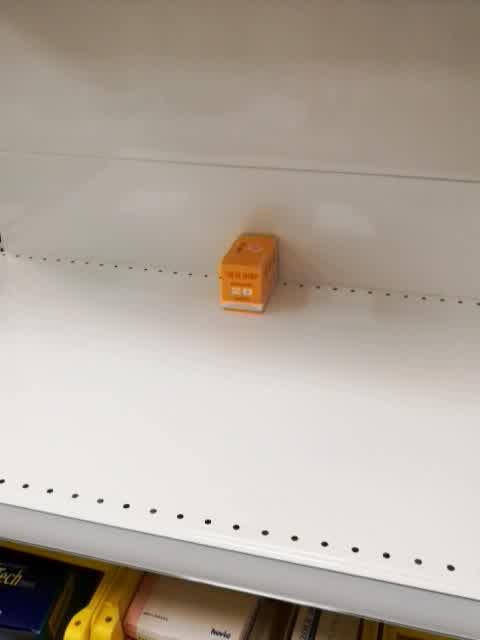jasminetea: (218, 231, 278, 314)
